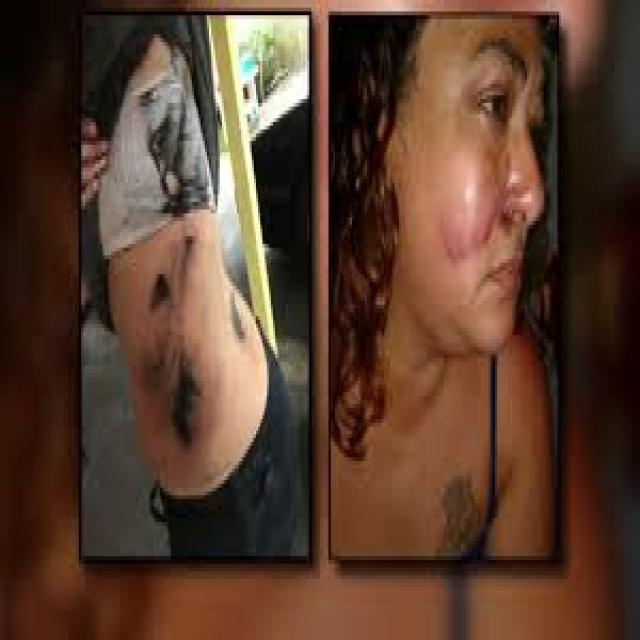burn: (137, 226, 209, 470), (439, 145, 533, 265), (227, 285, 250, 349)
